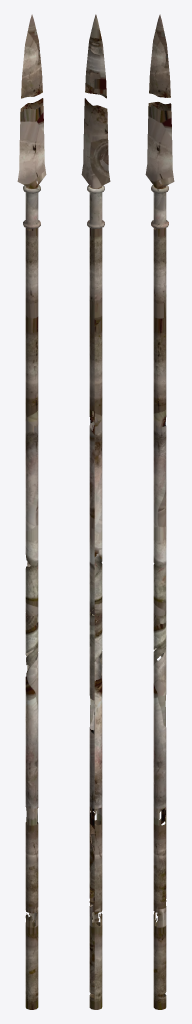
3 renders of one model, left to right at view 1: azimuth 30°, elevation 25°; view 2: azimuth 150°, elevation 25°; view 3: azimuth 330°, elevation 25°, orthographic.
Visible parts, largest first — view 1: SM_Lougrims_Shrine_Bones_01_LOD0; view 2: SM_Lougrims_Shrine_Bones_01_LOD0; view 3: SM_Lougrims_Shrine_Bones_01_LOD0.
Boxes of the visible parts, x1,y1,x2,y2 form: SM_Lougrims_Shrine_Bones_01_LOD0: (17, 14, 46, 1009); SM_Lougrims_Shrine_Bones_01_LOD0: (81, 14, 110, 1009); SM_Lougrims_Shrine_Bones_01_LOD0: (145, 14, 174, 1009).
Size of the model in its own units: 0.0749 by 2.48 by 0.0389.
